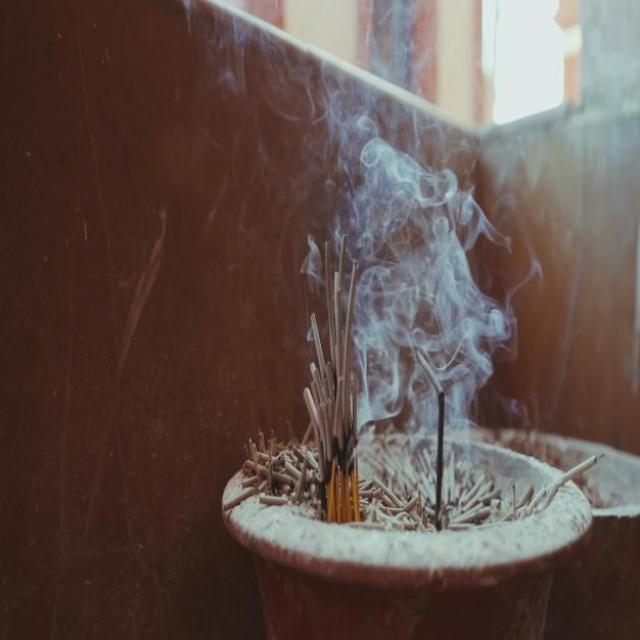fire: (302, 0, 524, 455)
